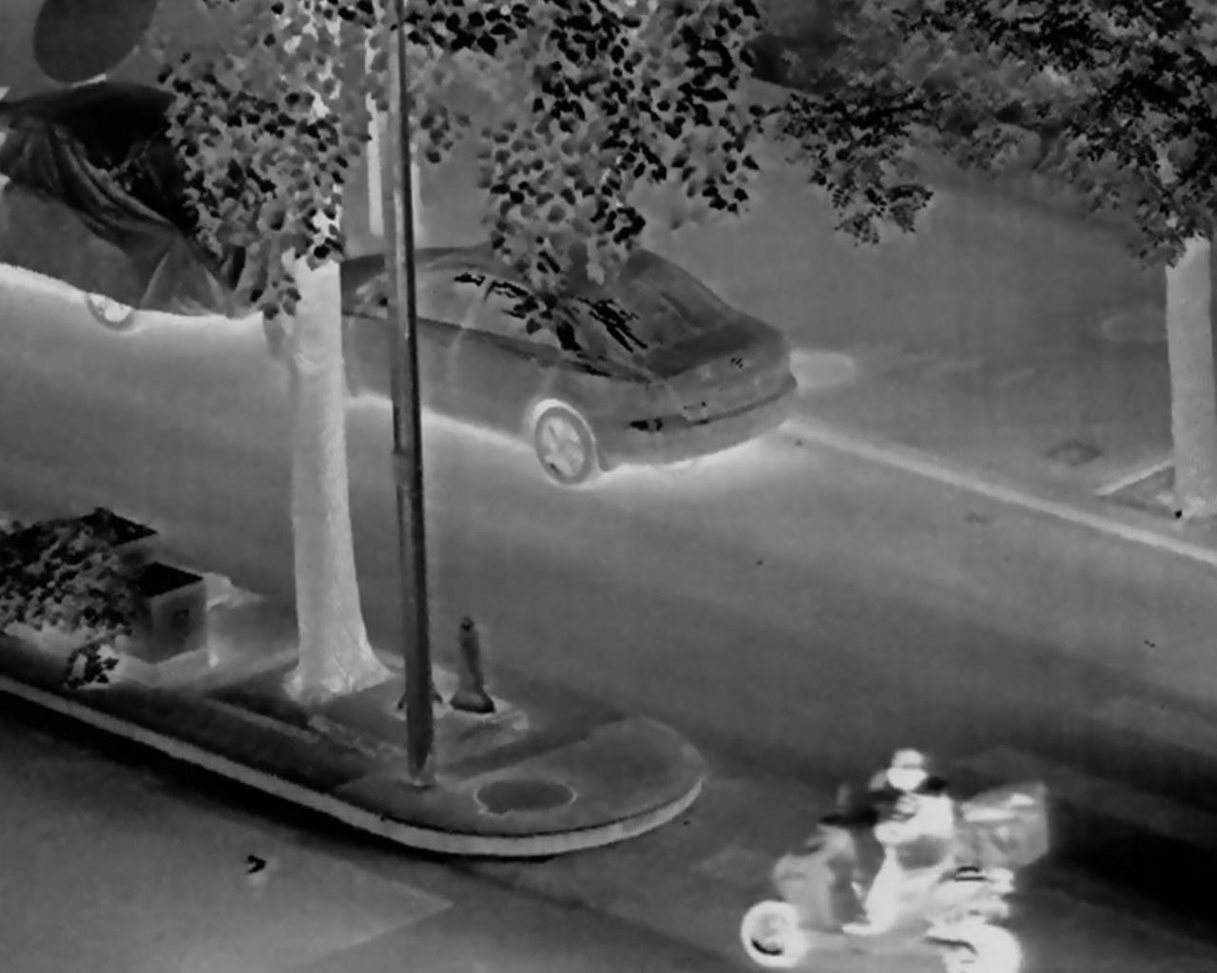person: (847, 747, 955, 939)
